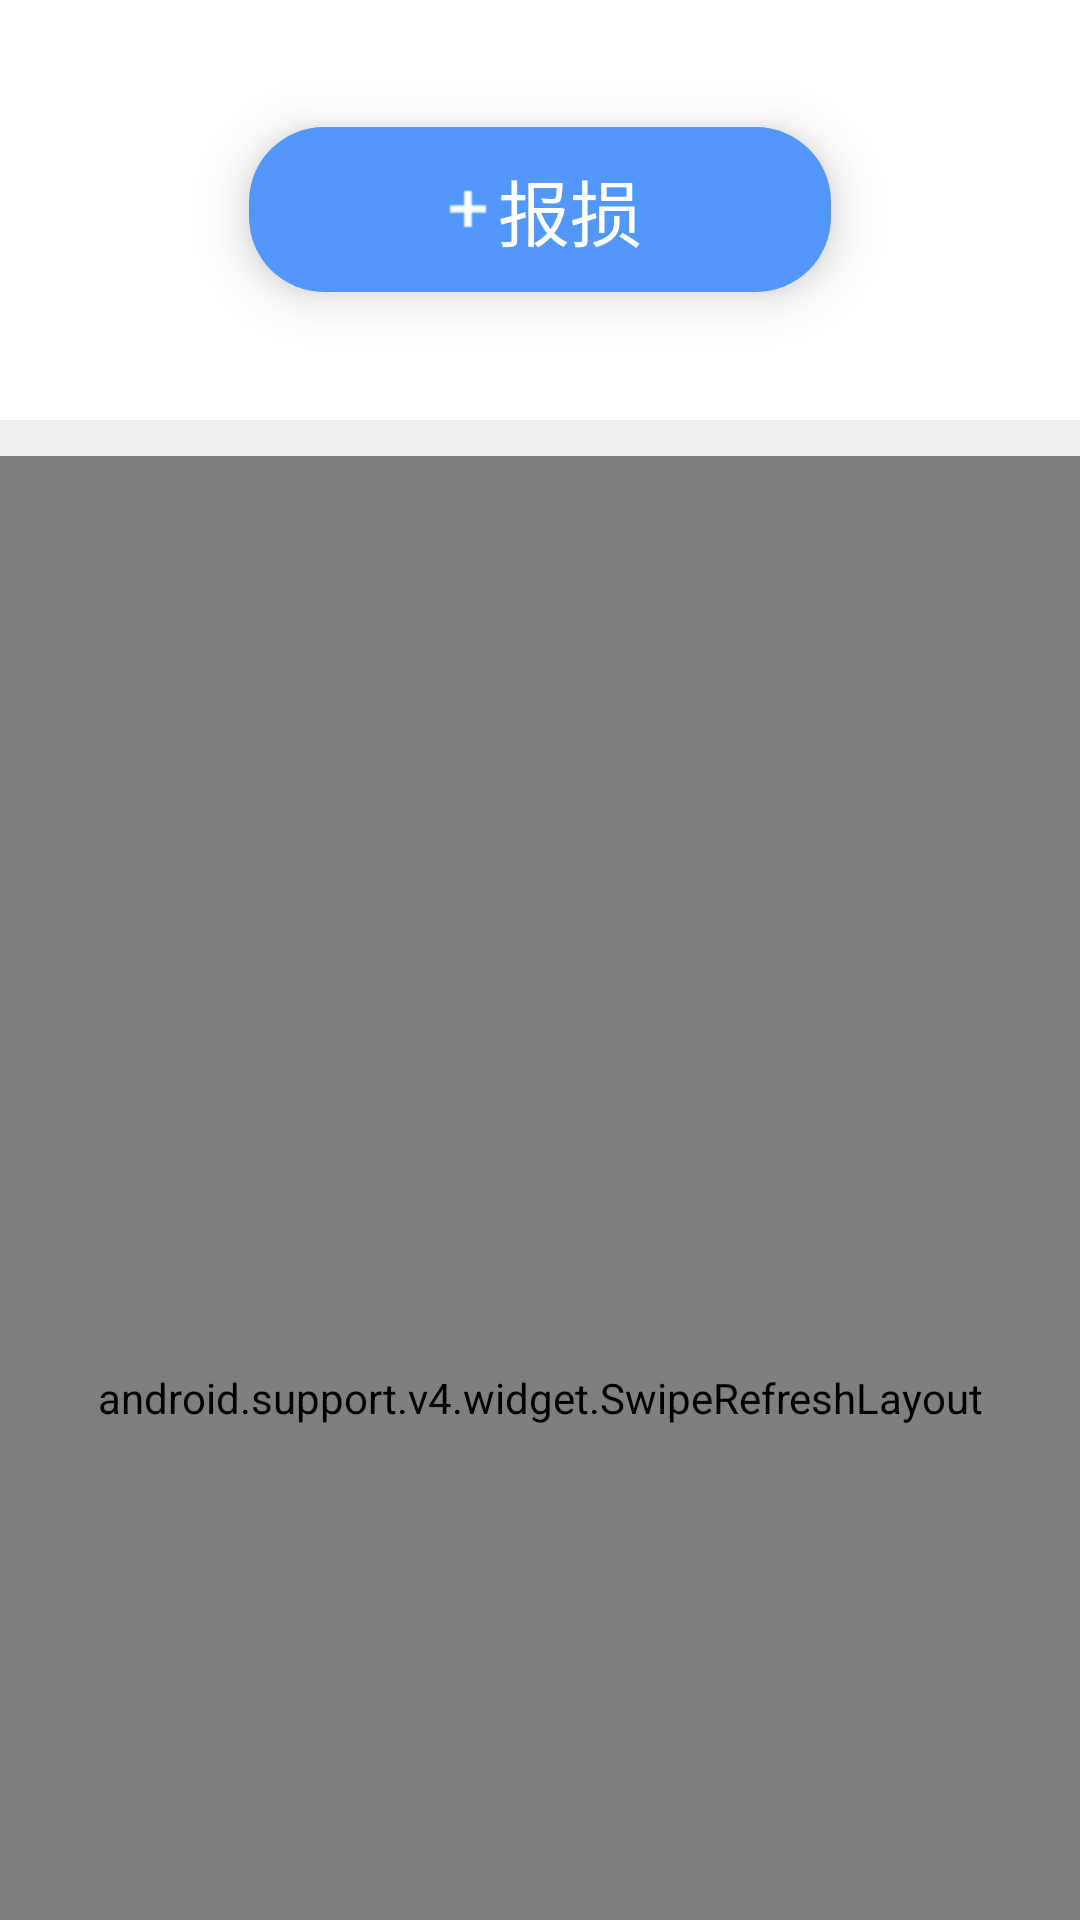

Locate icon controls on the screen. Image size 1080×1920, boxes as region(x1, y1, x2, y2).
loss add: region(449, 190, 487, 228)
